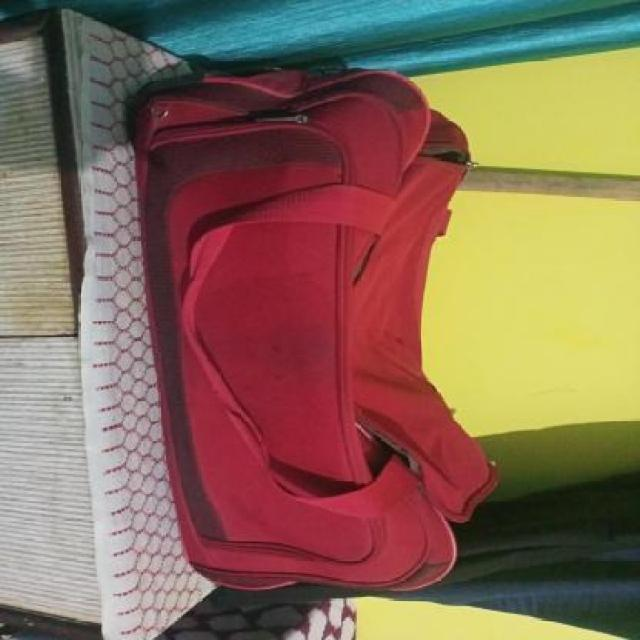backpack: (123, 54, 506, 598)
